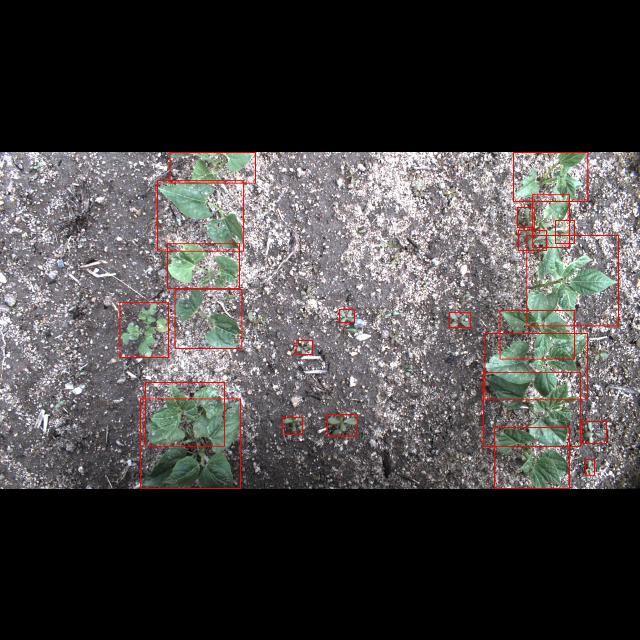crop: (140, 398, 240, 488), (526, 234, 618, 326), (484, 372, 580, 446), (485, 333, 587, 399), (156, 180, 244, 250), (146, 382, 224, 446), (494, 428, 570, 488), (174, 288, 242, 348), (514, 151, 588, 201), (500, 310, 574, 358), (167, 242, 239, 288), (170, 152, 256, 182), (532, 194, 570, 246)
weed: (120, 302, 168, 356), (327, 414, 357, 436), (518, 229, 546, 249), (582, 421, 606, 443), (556, 220, 574, 242), (282, 416, 302, 434), (518, 207, 534, 227), (450, 312, 470, 328), (296, 340, 312, 354), (340, 308, 354, 322), (585, 460, 595, 474)
